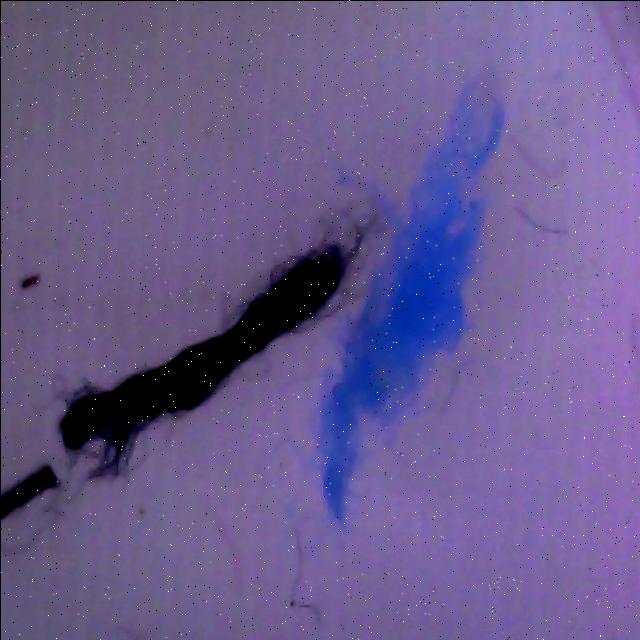Fibre: (502, 124, 576, 190), (283, 522, 321, 628), (502, 197, 570, 249)
